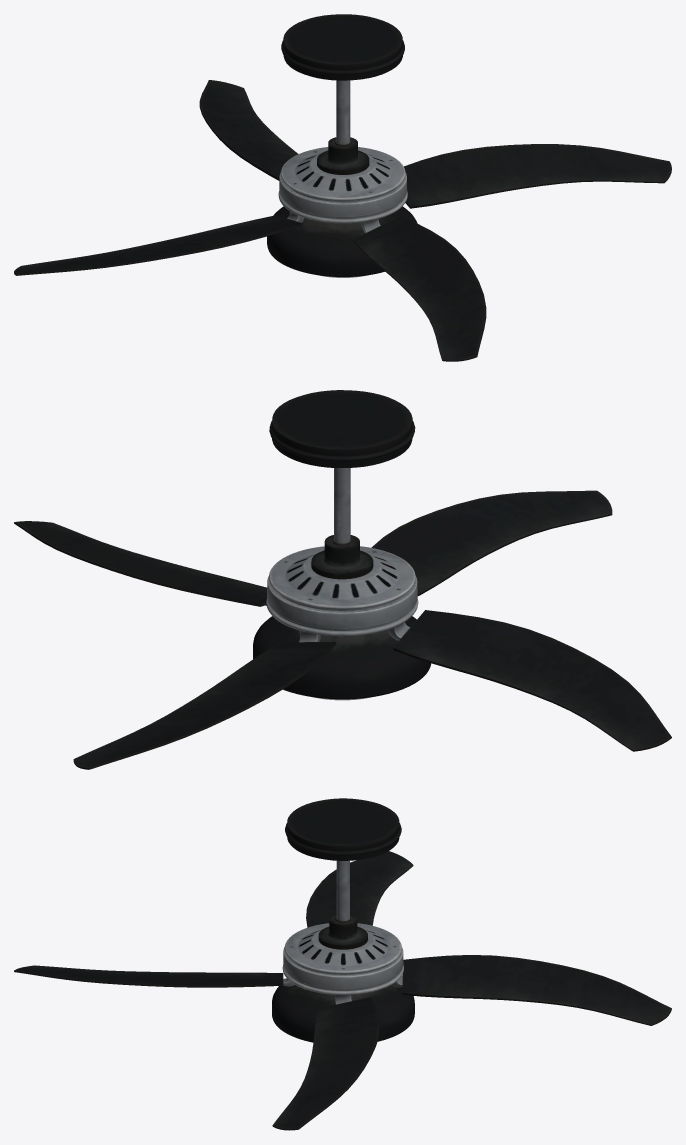
File: ceiling_fan.glb
3 views of the same model, one above another, from view 1: azimuth 30°, elevation 25°; view 2: azimuth 150°, elevation 25°; view 3: azimuth 270°, elevation 25° (orthographic). The views are drawn at different scales.
Visible parts, largest first — view 1: ceiling_fan_blades, ceiling_fan; view 2: ceiling_fan_blades, ceiling_fan; view 3: ceiling_fan_blades, ceiling_fan.
Boxes of the visible parts, x1,y1,x2,y2 form: ceiling_fan_blades: [14, 80, 671, 361]; ceiling_fan: [267, 14, 417, 277]; ceiling_fan_blades: [14, 490, 671, 769]; ceiling_fan: [253, 390, 431, 700]; ceiling_fan_blades: [14, 851, 671, 1130]; ceiling_fan: [272, 798, 414, 1042].
Bounding box in the file's own units: 1.46 × 0.5163 × 1.46.
1 material, 1 textured.
